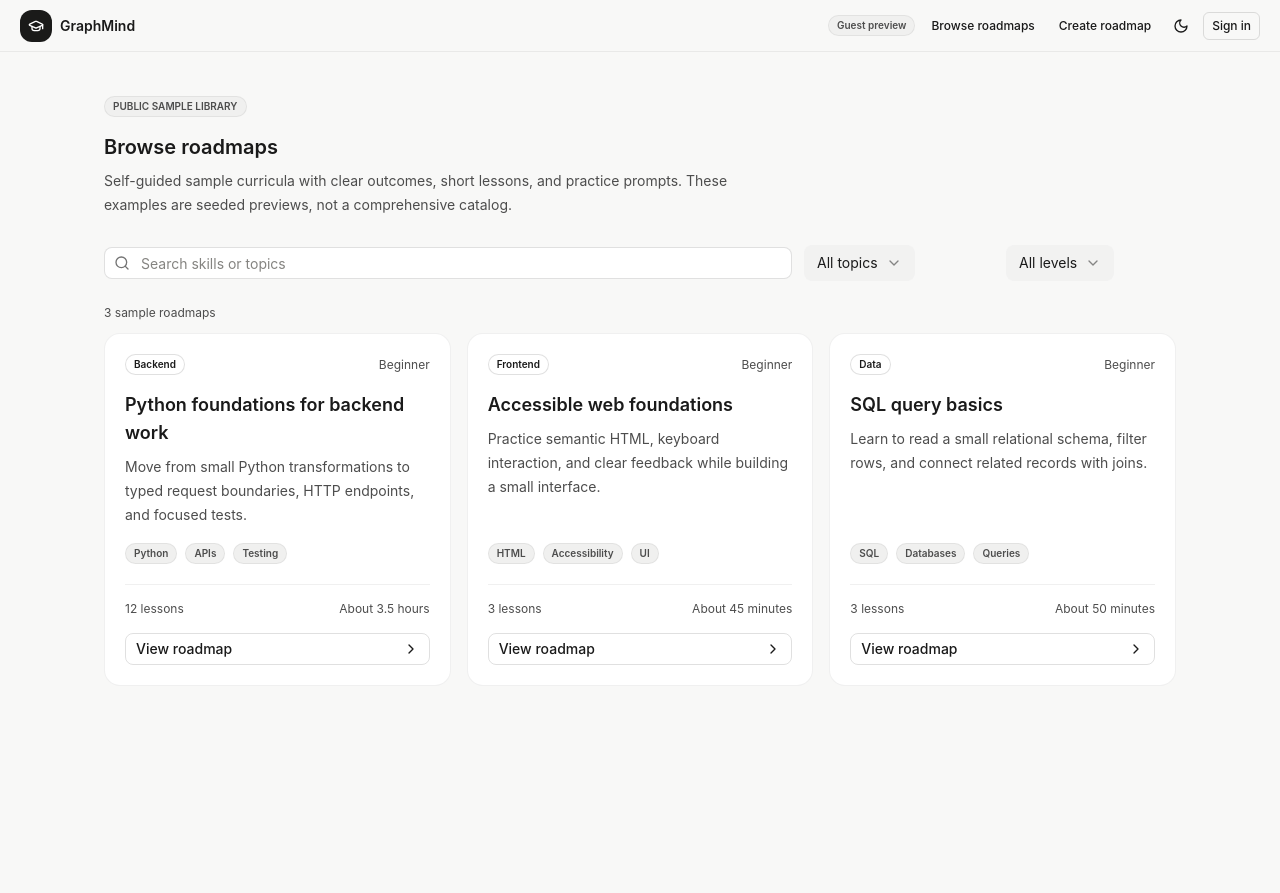
Test: gated tutor and generator journeys › keeps a selected public passage through simulated sign-in and opens the topic tutor
Click the button "View roadmap" below "12": point(184, 648) [125,633,430,665]
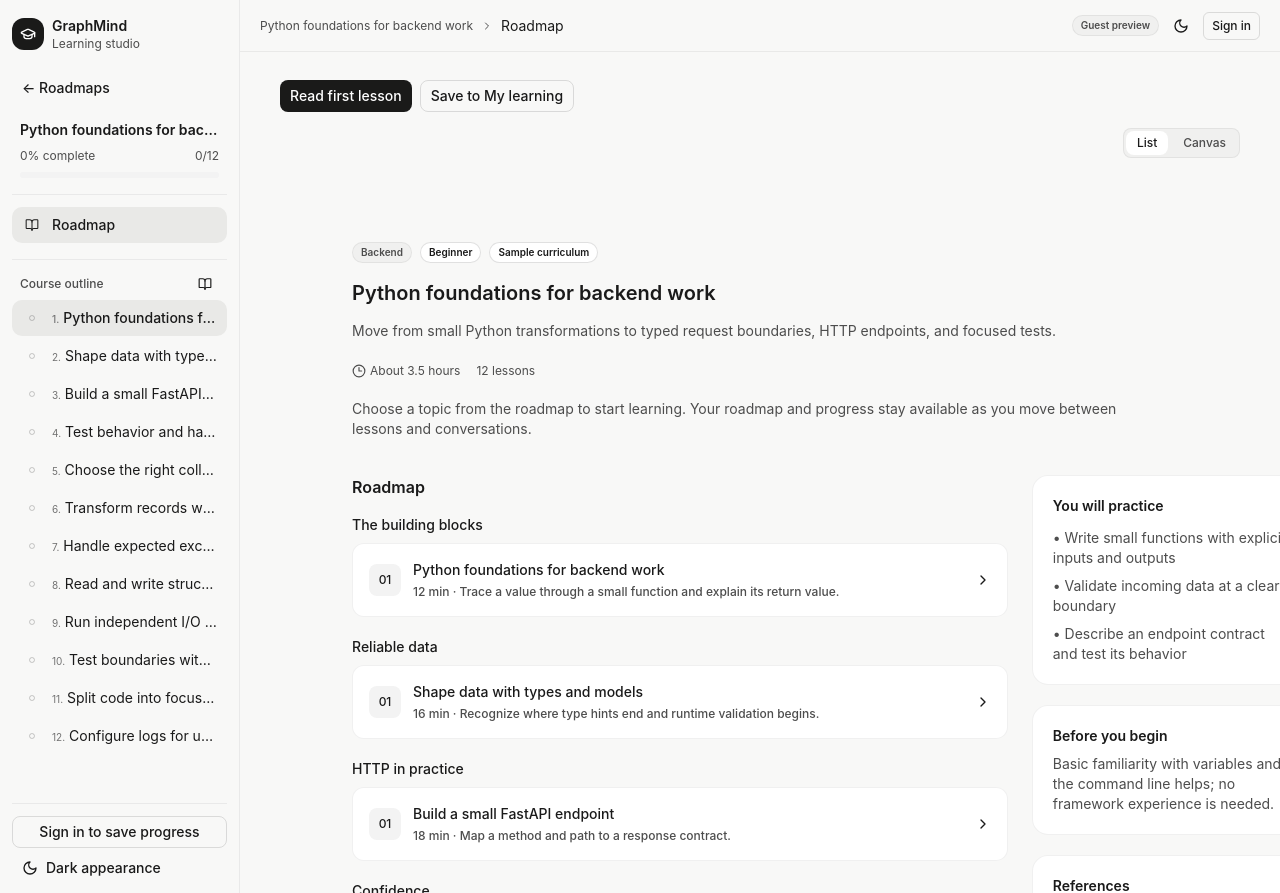
Click the button "Read first lesson": point(346, 96) [280,80,412,112]
(page scrolled)
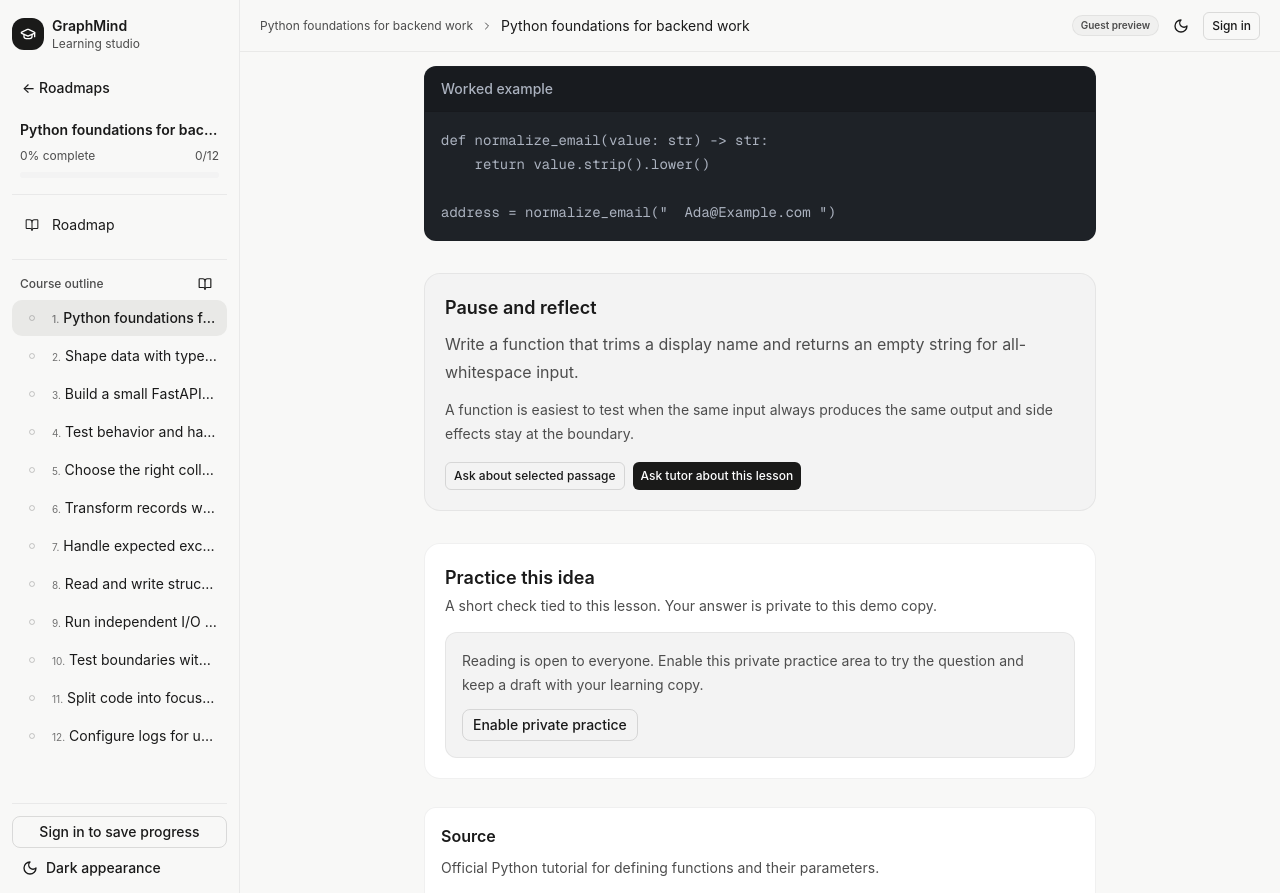
Click the button "Ask about selected passage": point(535, 476) [445,462,624,490]
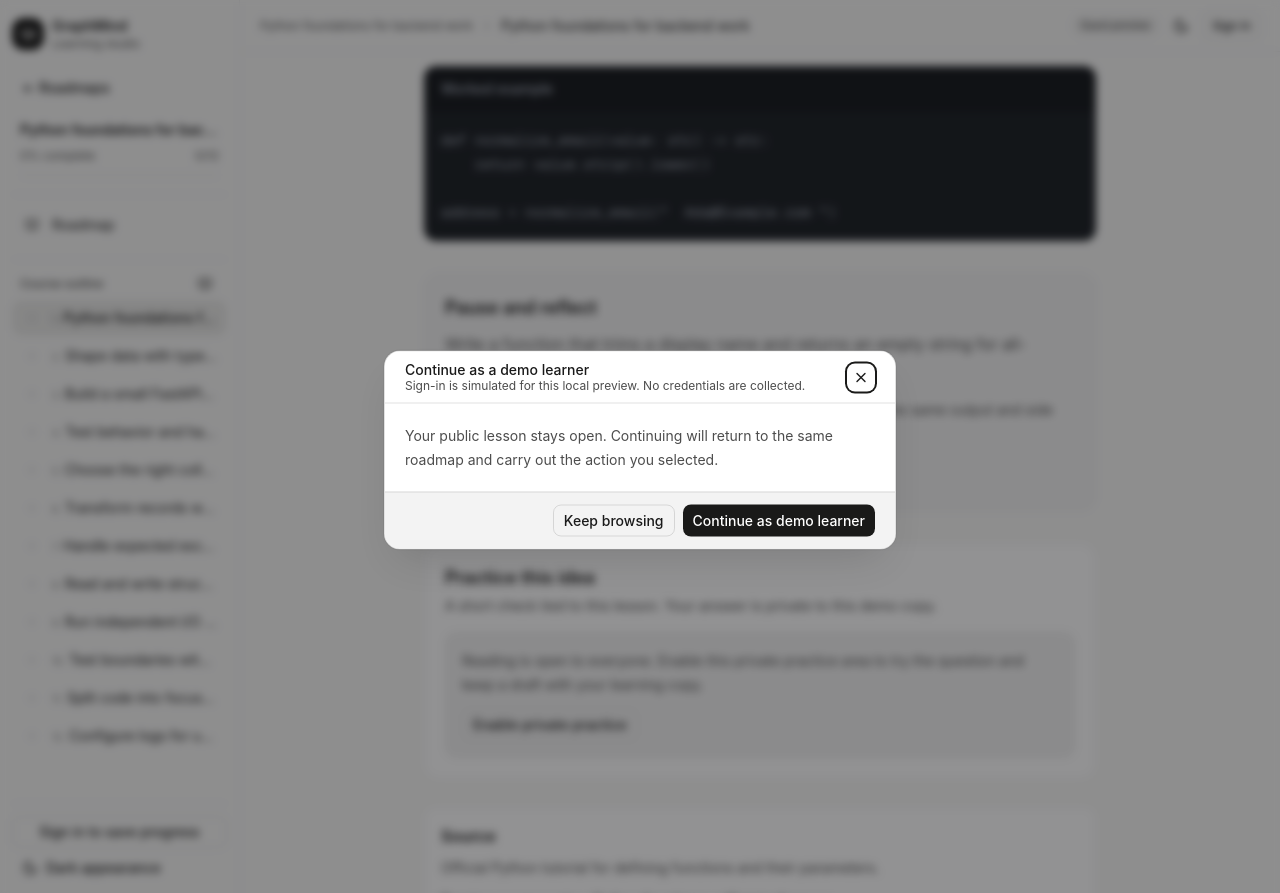
Now the dialog "Continue as a demo learner" is shown, box [384,350,896,550]
Click the button "Continue as demo learner": point(779, 520) [682,504,875,536]
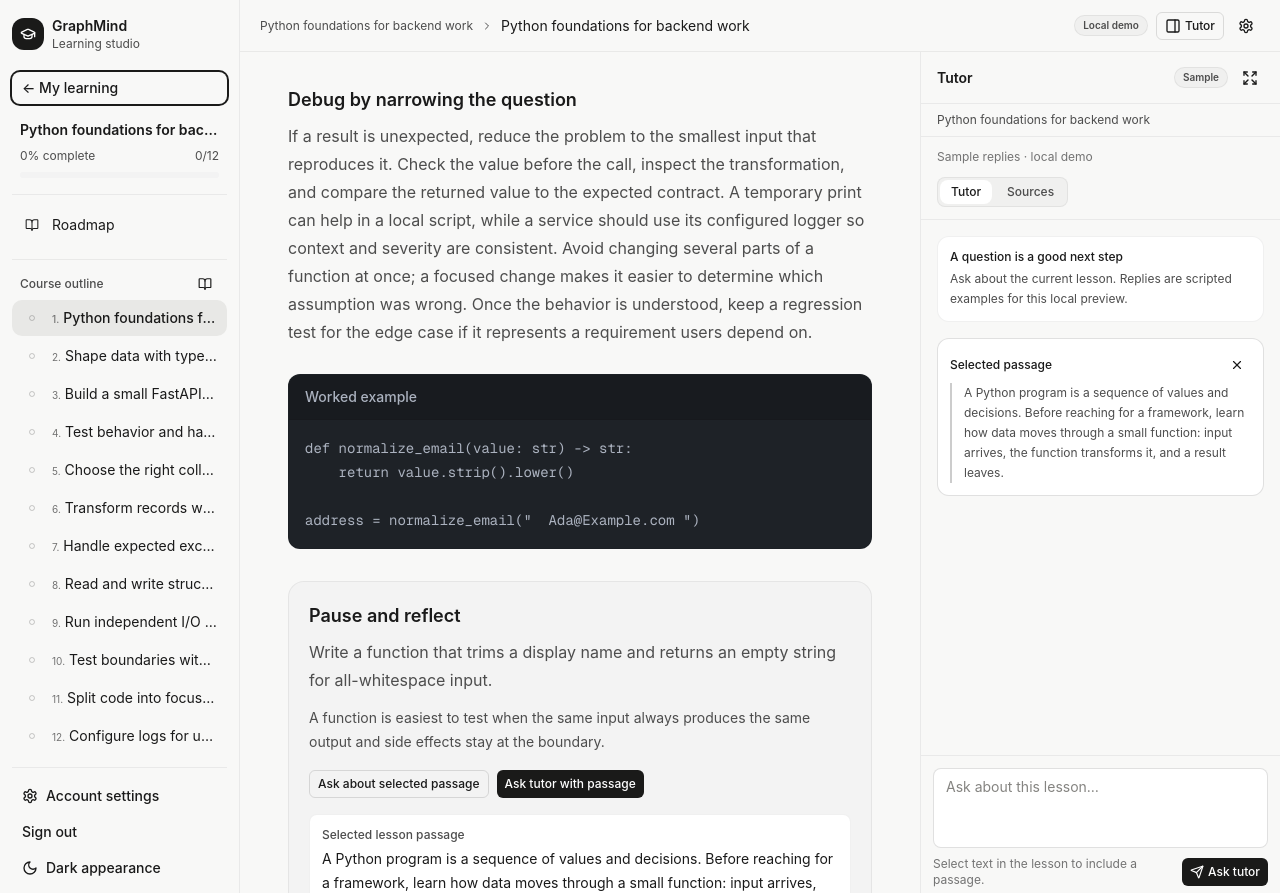
Now the text "Selected passage" is shown, box [950,351,1251,379]
Click the button named "Open full conversation": point(1250, 78) [1236,64,1264,92]
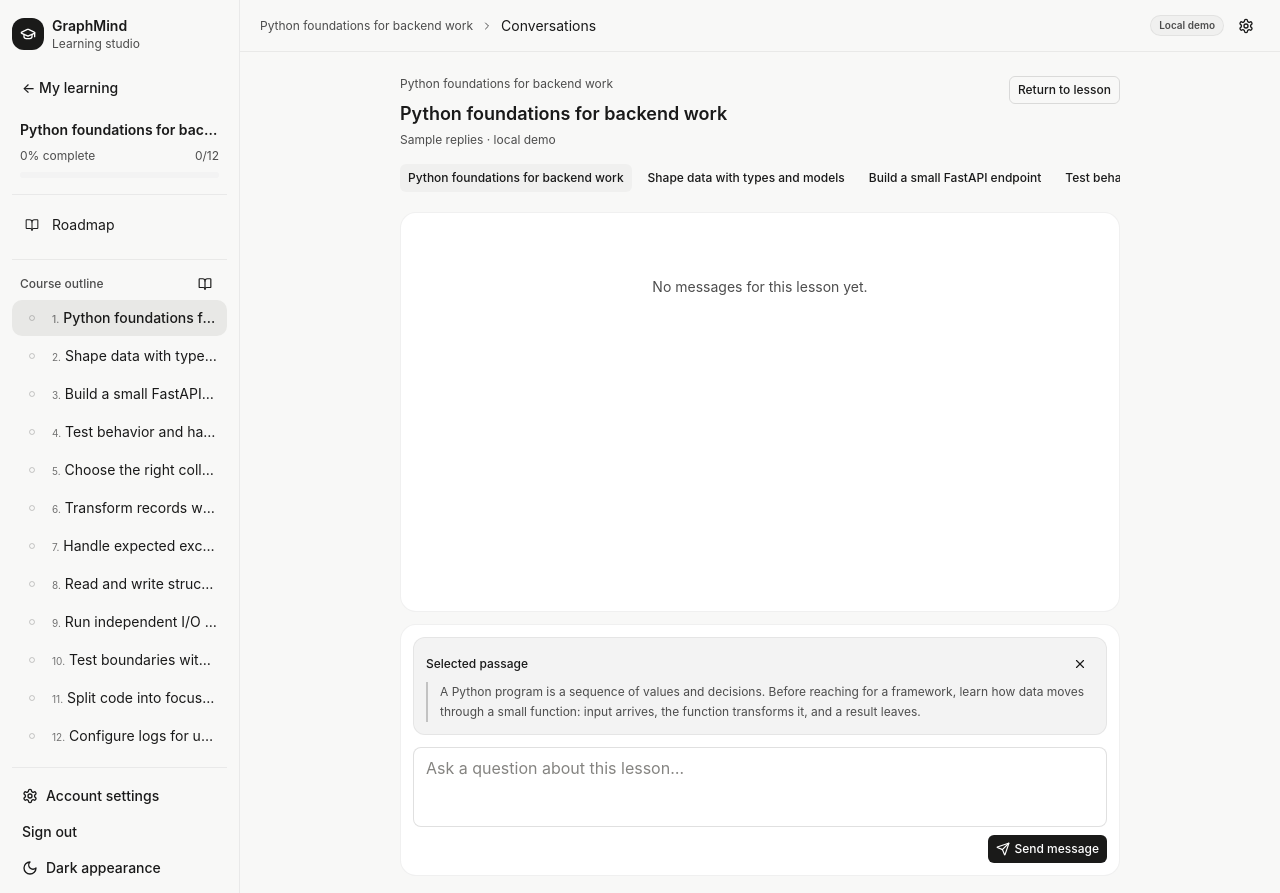
Now the text "Selected passage" is shown, box [426,650,1094,678]
Now the text box named "Write a message in this lesson conversation" is shown, box [413,747,1107,827]
Click the button named "Remove quoted passage": point(1080, 664) [1066,650,1094,678]
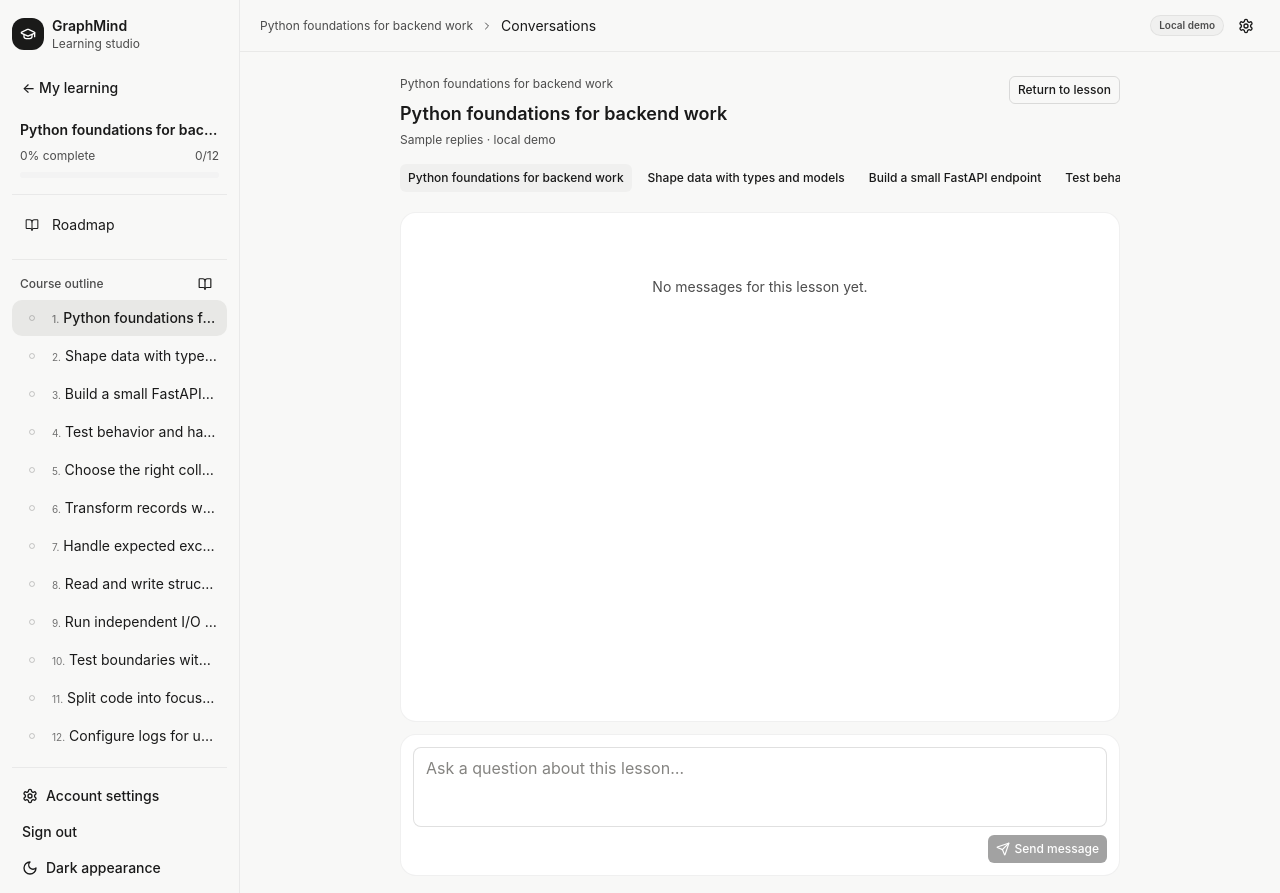
Now the text "Selected passage" is gone
